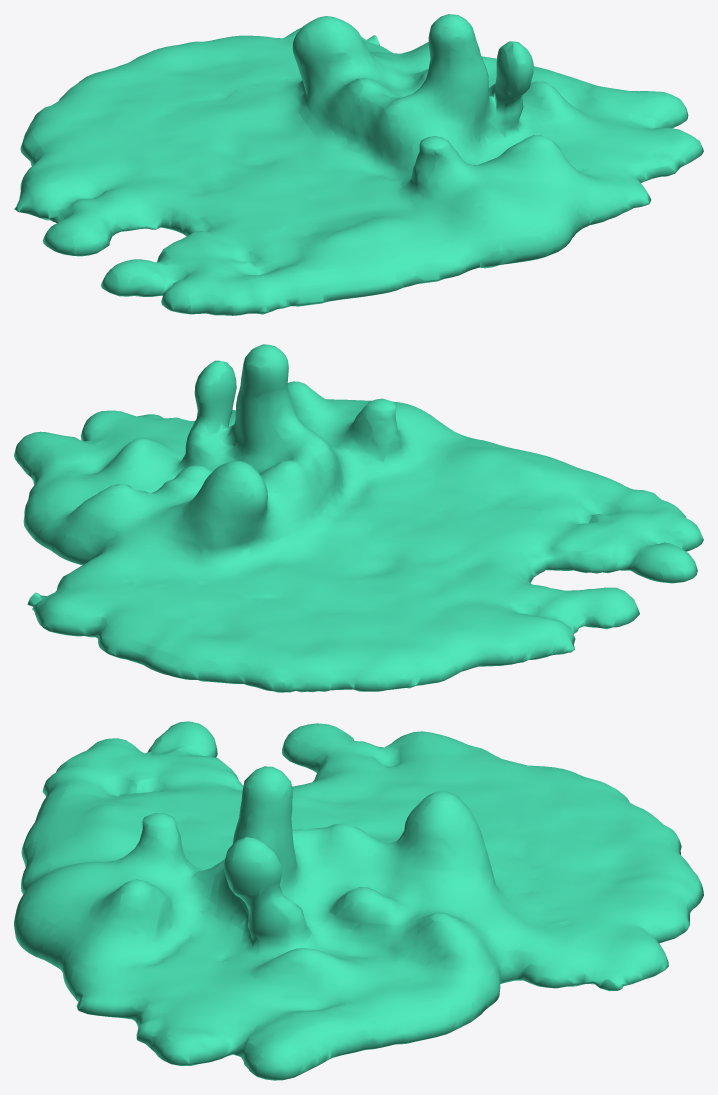
The picture shows the model from 3 angles, top to bottom: view 1: azimuth 30°, elevation 25°; view 2: azimuth 150°, elevation 25°; view 3: azimuth 270°, elevation 25°; orthographic projection. The views are drawn at different scales.
Visible parts, largest first — view 1: Liquid_Domain; view 2: Liquid_Domain; view 3: Liquid_Domain.
Boxes of the visible parts, left/top/right/bottom form: Liquid_Domain: left=14, top=14, right=703, bottom=315; Liquid_Domain: left=14, top=344, right=703, bottom=692; Liquid_Domain: left=14, top=721, right=703, bottom=1080.
Size of the model in its own units: 12.53 by 3.15 by 10.6.
